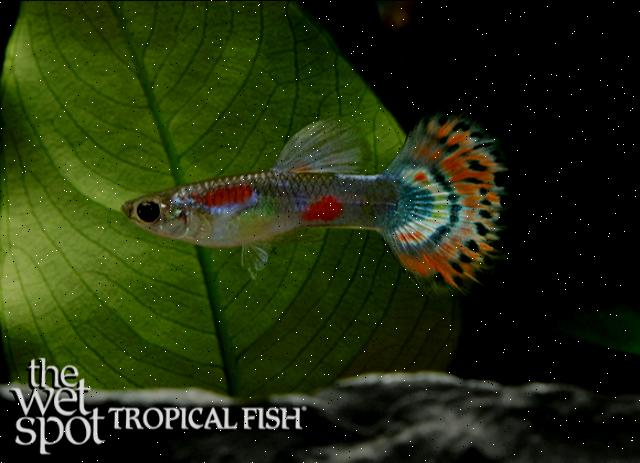Mulut: (100, 180, 148, 230)
Sirip Anal: (272, 206, 334, 261)
Sirip Dada: (194, 190, 262, 246)
Sirip Ekor: (382, 102, 536, 308)
Sirip Perut: (234, 230, 286, 294)
Sirip Punggung: (256, 109, 382, 192)
